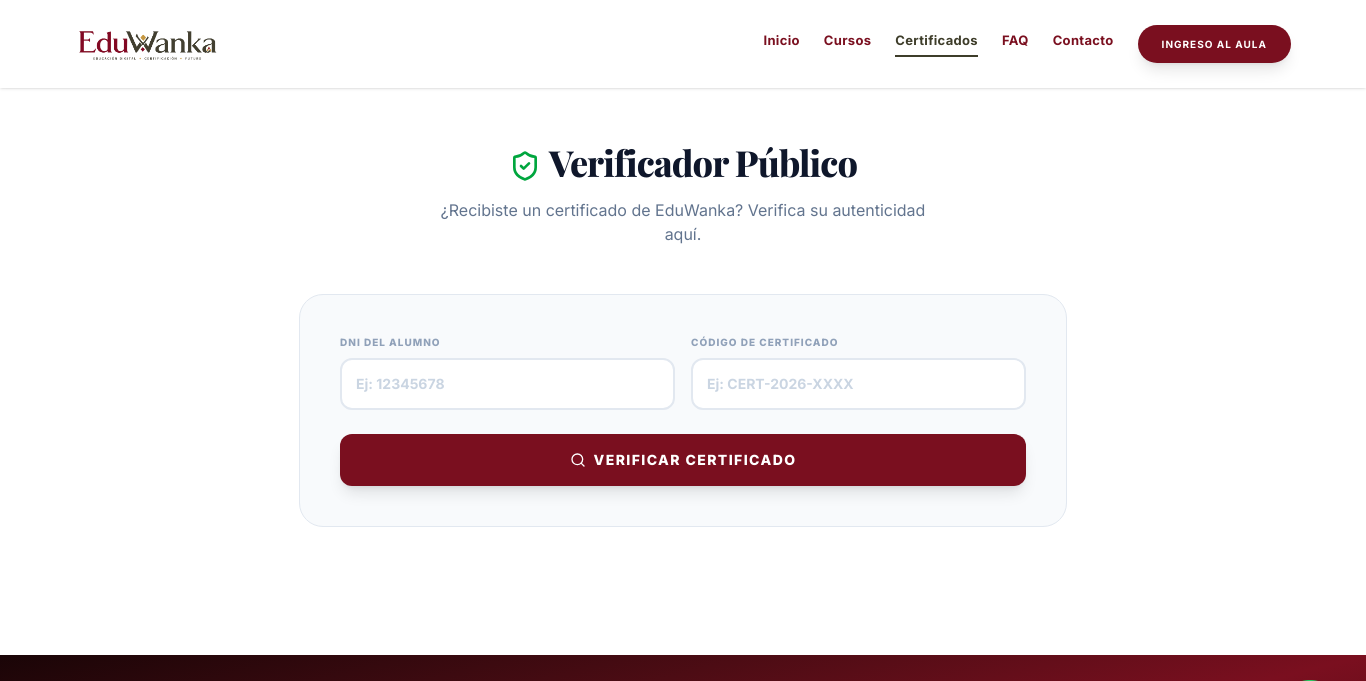
Verificación pública de certificados › responde a una consulta con un estado explícito
(page scrolled)
Note: Primer input: DNI, segundo: código (orden en Certificates.tsx)
Type "12345678" into the field with placeholder "Ej: 12345678" at x=508, y=384, box [340, 358, 675, 410]
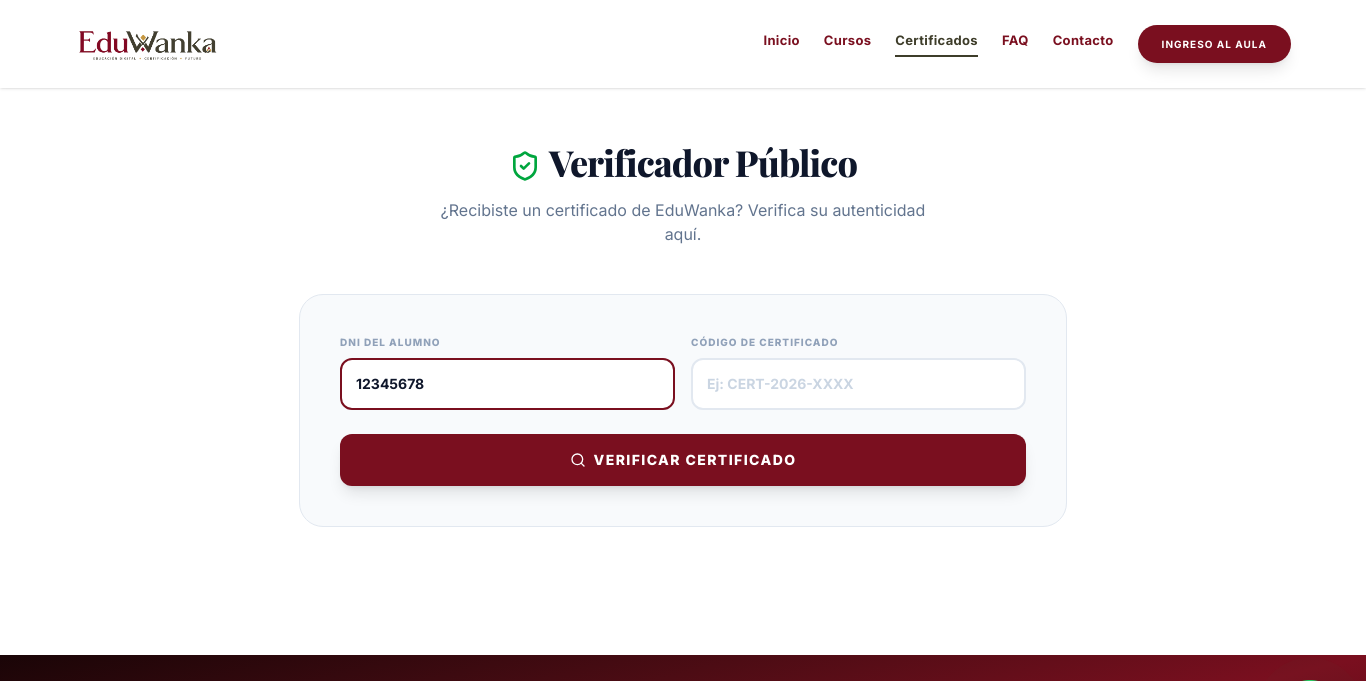
Type "EDU-2026-0001" into the field with placeholder "Ej: CERT-2026-XXXX" at x=859, y=384, box [691, 358, 1026, 410]
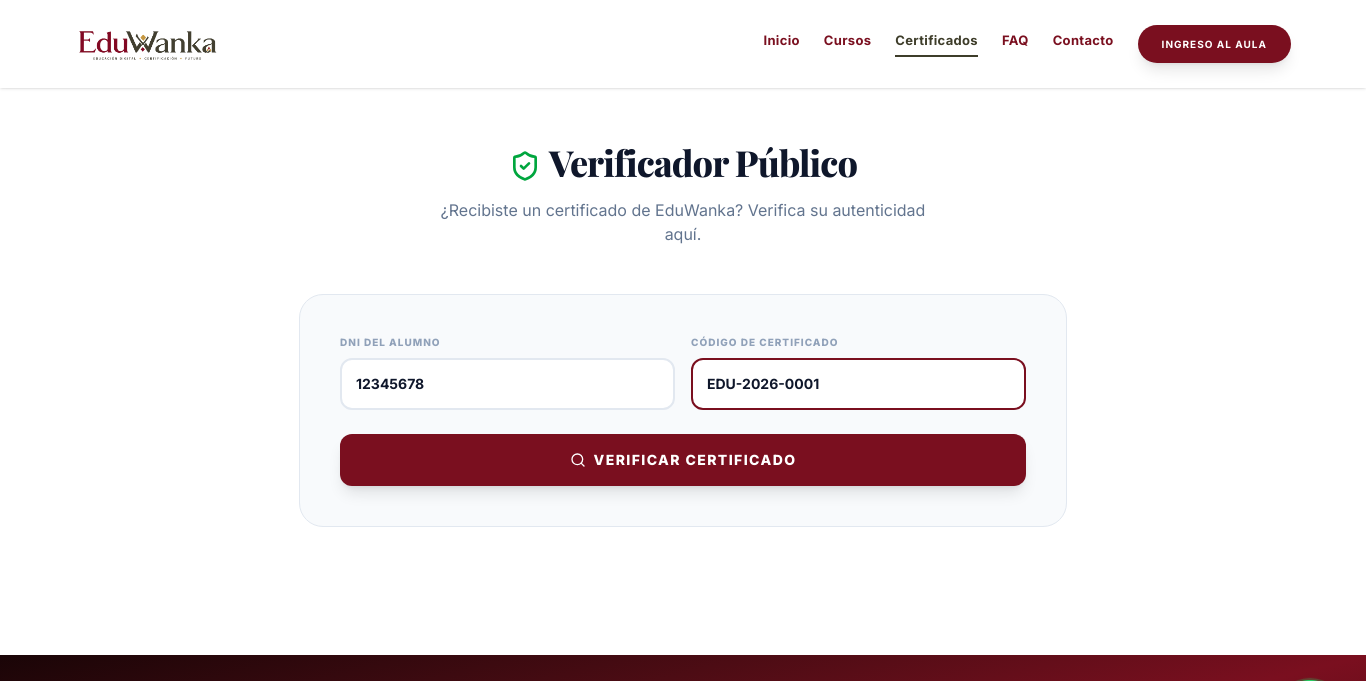
Click the submit button at x=683, y=460, box [340, 434, 1026, 486]
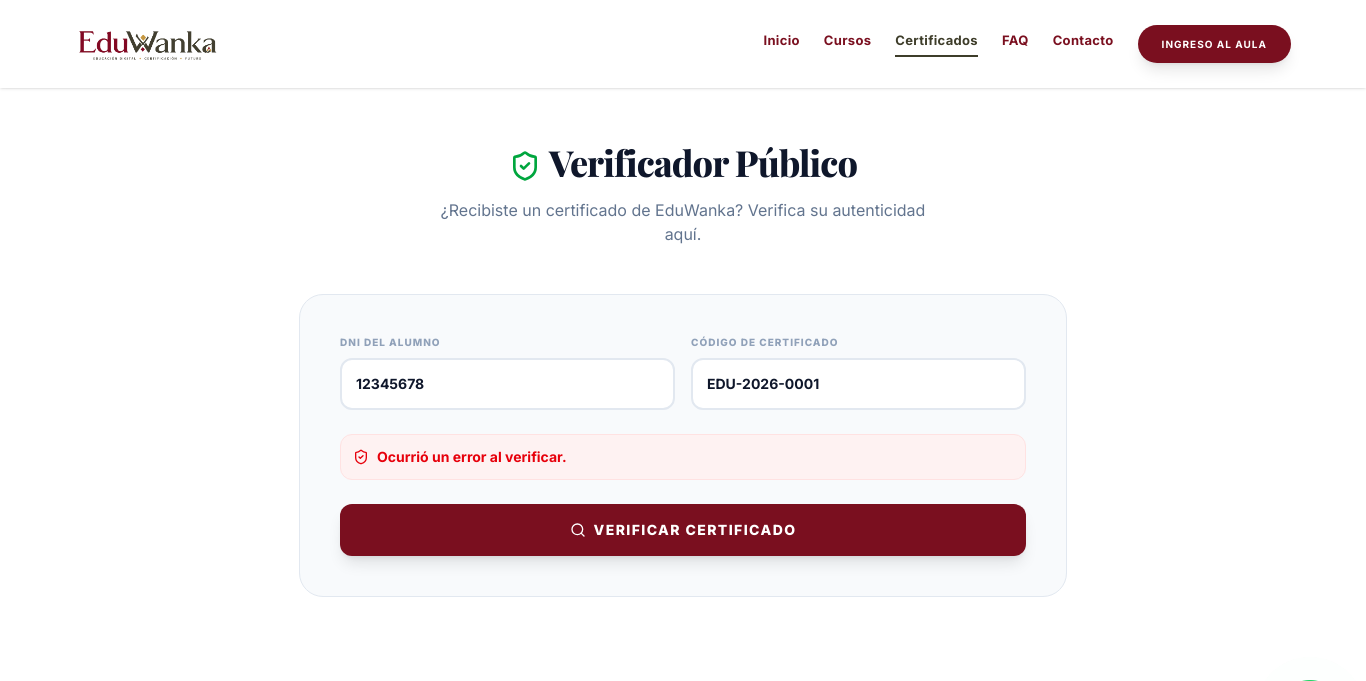
expect the text "Ocurrió un error al verificar." is shown: met, box [340, 434, 1026, 480]
